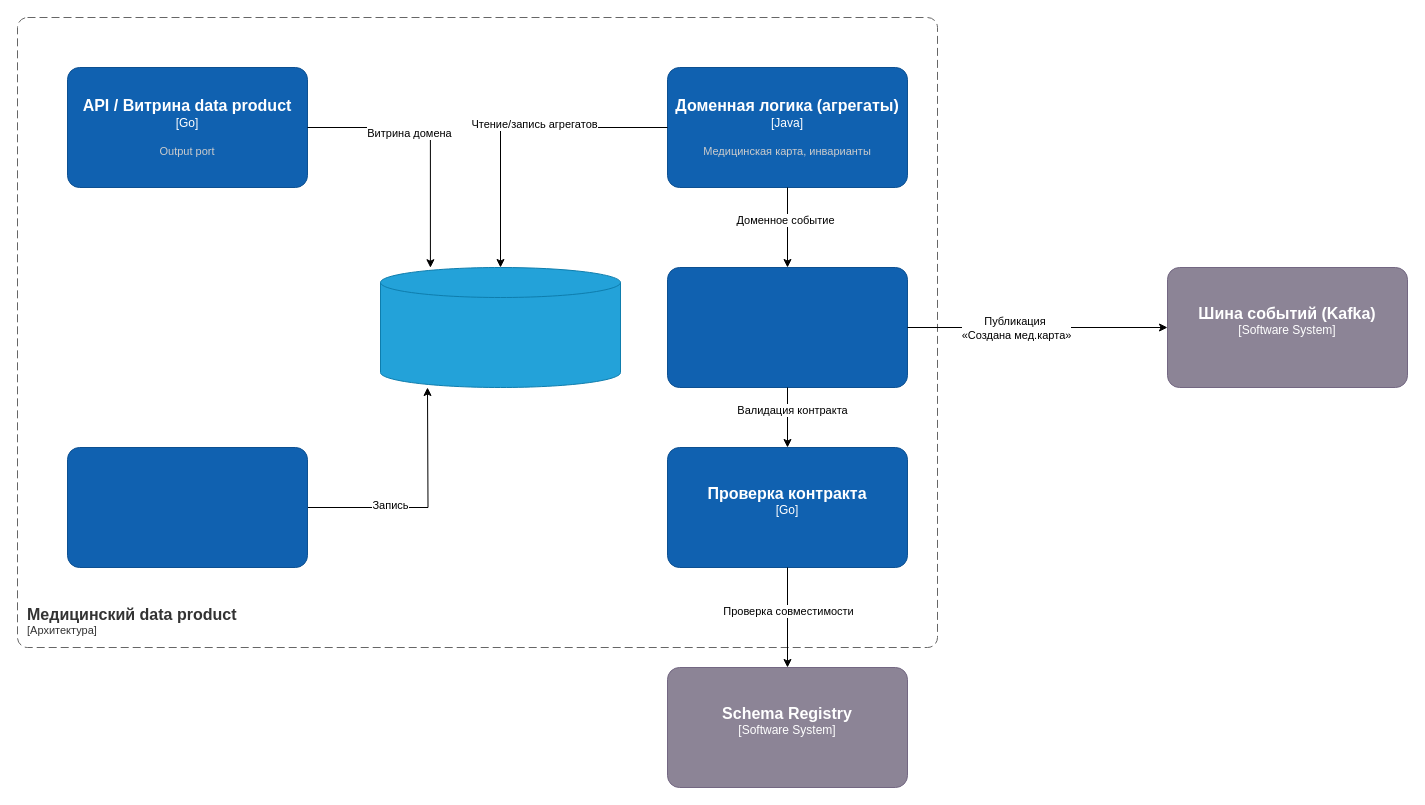
Some shapes in this 1425 by 805 pixel diagram are drawn without their labels. The shapes that lost their labels are listed below. From the top down, each one's centre as x and y in pixels, then its label:
At point (500, 327): "Хранилище домена [Container: PostgreSQL] Состояние агрегатов".
At point (787, 327): "Outbox / Publisher [Go] Transactional outbox → Kafka".
At point (187, 507): "Ingest / Source connectors [Go] Приём из источников и CDC".
